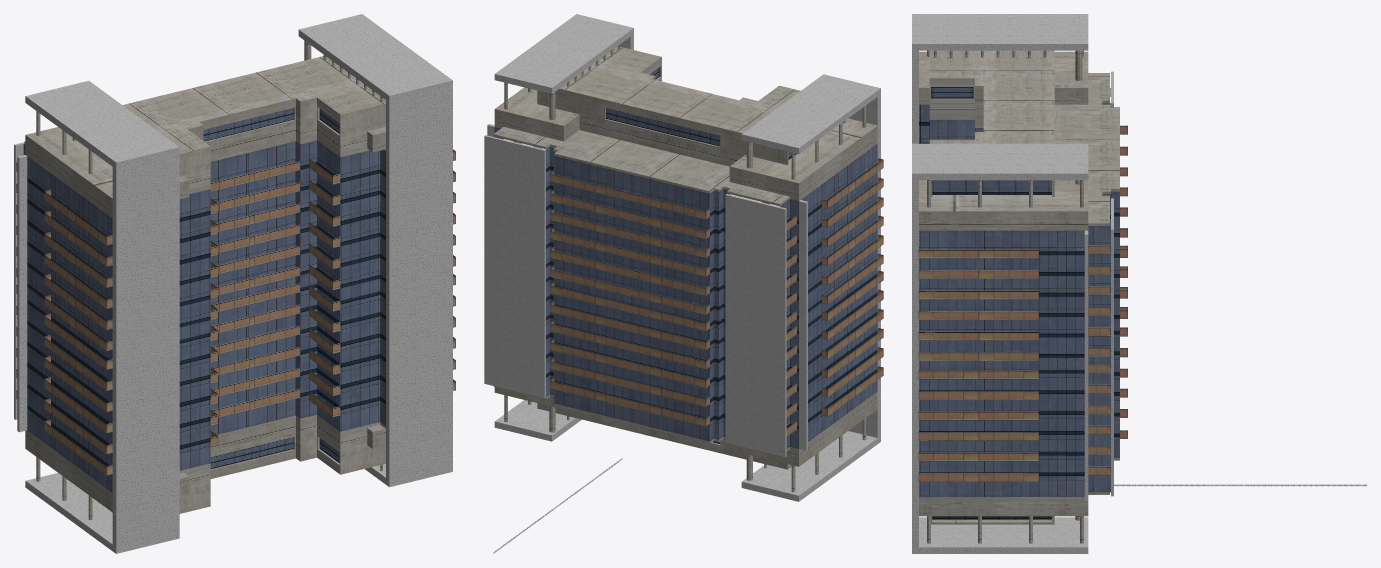
Rendered from Unity2GLTF.gltf.
The picture shows the model from 3 angles, left to right: view 1: azimuth 30°, elevation 25°; view 2: azimuth 150°, elevation 25°; view 3: azimuth 270°, elevation 25°; orthographic projection. The views are drawn at different scales.
Parts seen in each view (by area): view 1: node_CombinePlacement_-50212; view 2: node_CombinePlacement_-50212; view 3: node_CombinePlacement_-50212, node_CombinePrefabWall_-50200.
Boxes of the visible parts, x1=… form: node_CombinePlacement_-50212: x1=14, y1=14, x2=455, y2=553; node_CombinePlacement_-50212: x1=484, y1=14, x2=883, y2=501; node_CombinePlacement_-50212: x1=912, y1=14, x2=1127, y2=553; node_CombinePrefabWall_-50200: x1=1114, y1=484, x2=1366, y2=486.
Size of what is drawn, in the model's own units: 51.1 by 54.13 by 58.67.
7 materials, 7 textured.
